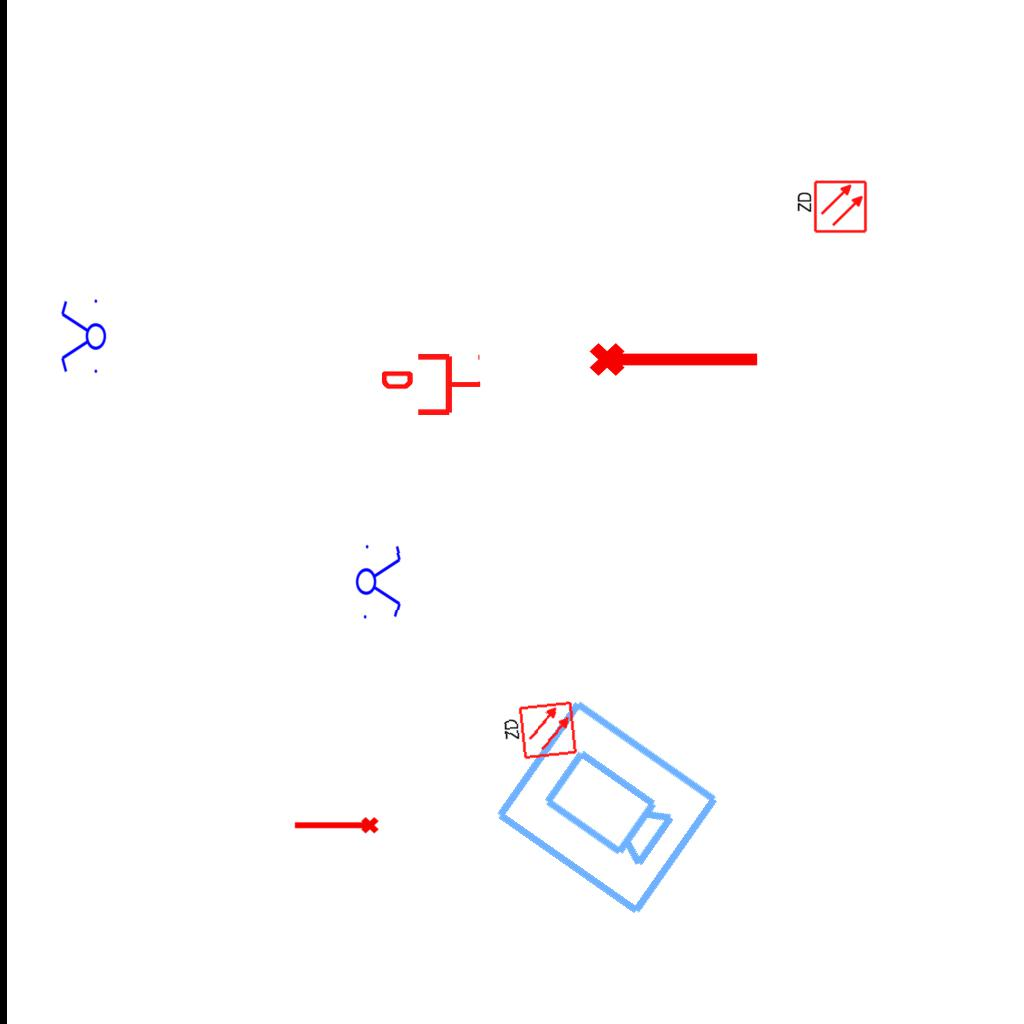ASR_Ansaugoeffnung: (587, 334, 763, 380), (292, 815, 380, 838)
Datenanschluss_einfach: (382, 350, 482, 419)
KFO_Kamera_mit_Festobjektiv: (487, 692, 725, 924)
Serienschalter: (354, 538, 404, 624), (59, 295, 107, 379)
ZD_Melder_in_Zwischendecke_mit_Revisionsoeffnung_mind_40_x_40_cm: (498, 699, 579, 765), (794, 179, 868, 236)
